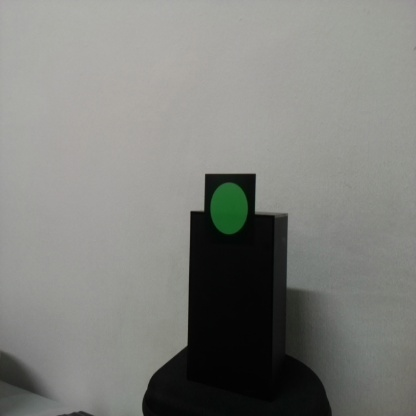id_5: (205, 173, 256, 251)
